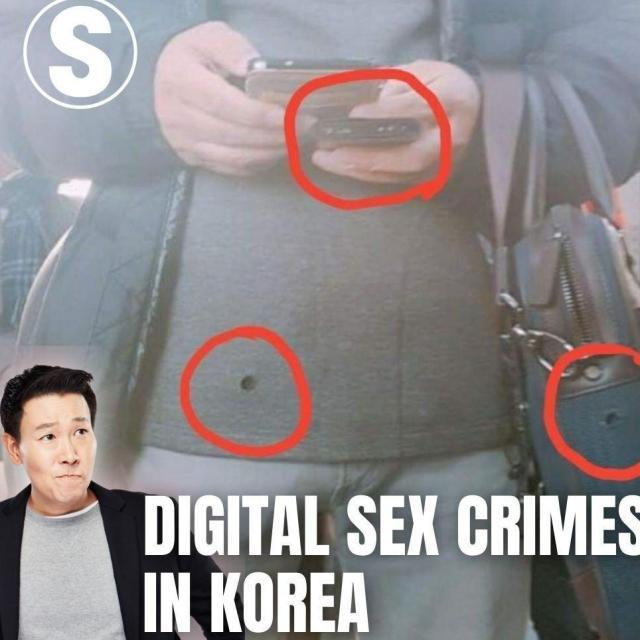hidden camera: (227, 353, 278, 411), (592, 397, 634, 444), (396, 119, 412, 138)
